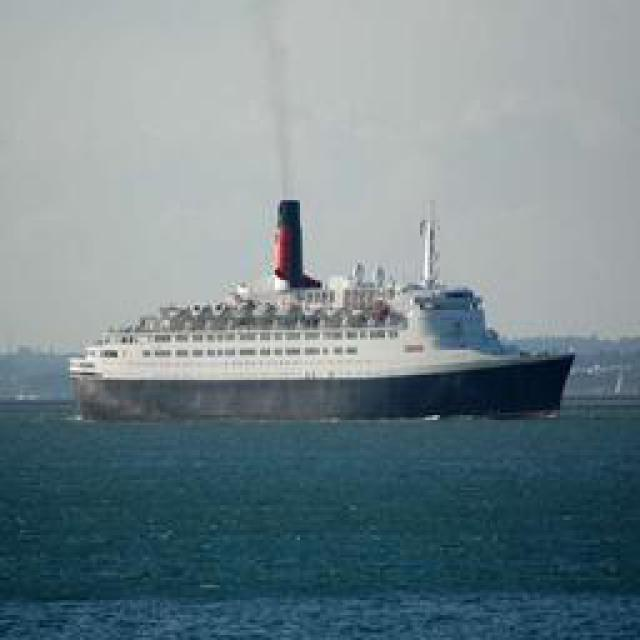Ship: (70, 193, 590, 421)
